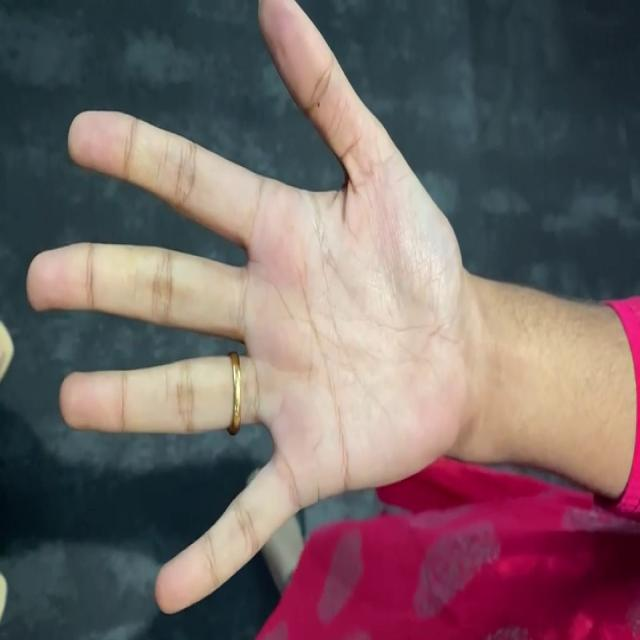no-gloves: (21, 0, 513, 629)
